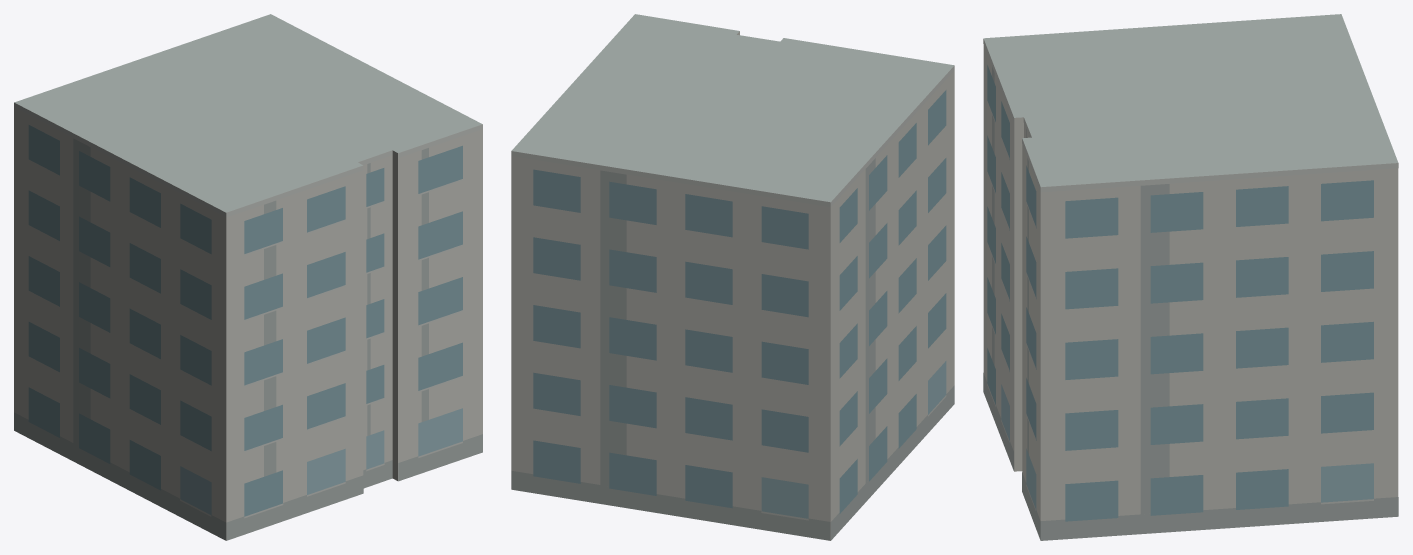
The model's file is survey-upis-32968756.glb.
3 views of the same model, side by side, from view 1: azimuth 30°, elevation 25°; view 2: azimuth 150°, elevation 25°; view 3: azimuth 270°, elevation 25° (orthographic). The views are drawn at different scales.
Visible parts, largest first — view 1: survey-upis-32968756.tmp; view 2: survey-upis-32968756.tmp; view 3: survey-upis-32968756.tmp.
Part boxes in pixels (x1=…): survey-upis-32968756.tmp: x1=14, y1=14, x2=482, y2=540; survey-upis-32968756.tmp: x1=511, y1=14, x2=954, y2=540; survey-upis-32968756.tmp: x1=983, y1=14, x2=1398, y2=540.
Size of the model in its own units: 16.81 by 16 by 17.02.
